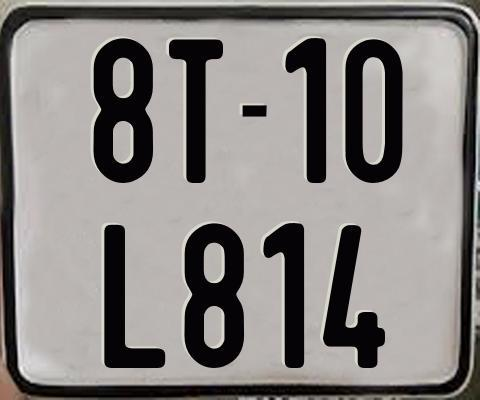0: (343, 39, 405, 186)
1: (263, 222, 306, 372), (282, 36, 325, 183)
4: (322, 223, 390, 367)
8: (181, 222, 244, 370), (92, 35, 156, 180)
L: (102, 225, 165, 371)
T: (168, 39, 225, 185)
